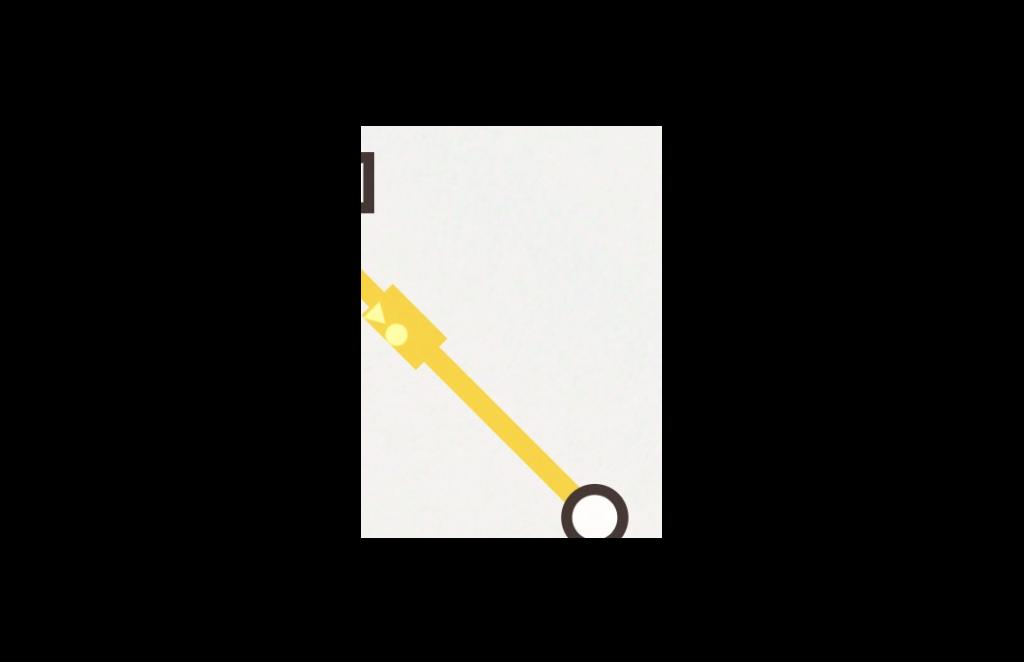connected_station: (548, 462, 636, 537), (362, 139, 388, 227)
train: (362, 279, 448, 375)
